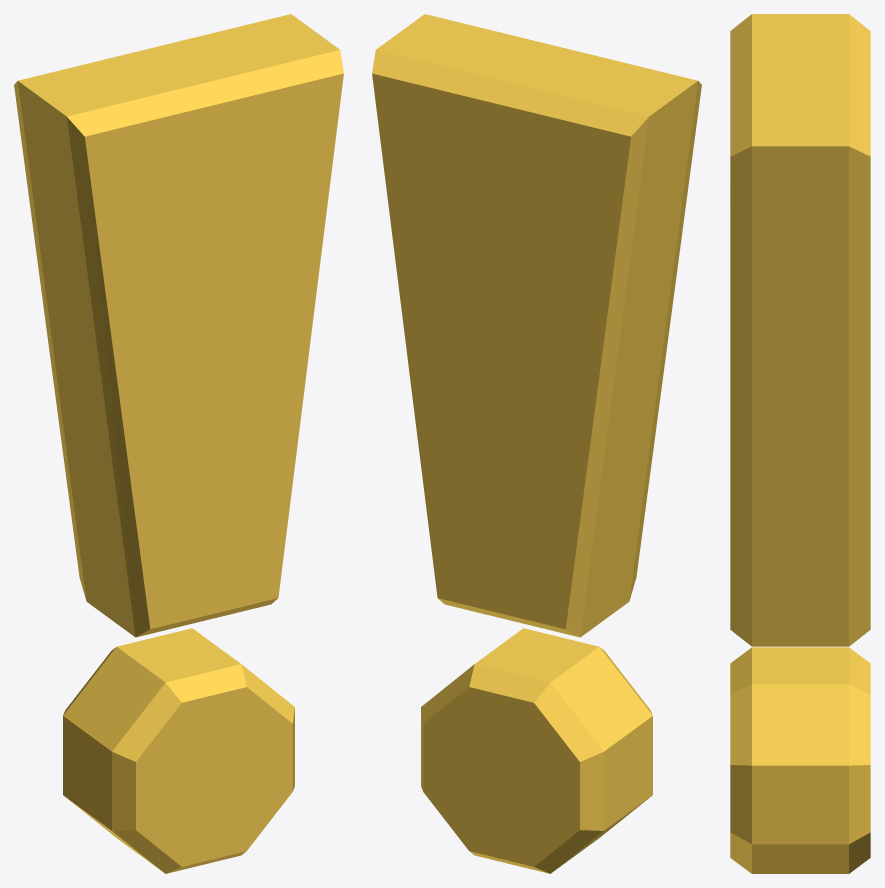
File: TownMissionMarker.fbx
3 views of the same model, side by side, from view 1: azimuth 30°, elevation 25°; view 2: azimuth 150°, elevation 25°; view 3: azimuth 270°, elevation 25° (orthographic).
Visible parts, largest first — view 1: TownMissionMarker; view 2: TownMissionMarker; view 3: TownMissionMarker.
Boxes of the visible parts, x1,y1,x2,y2 form: TownMissionMarker: [14, 14, 343, 873]; TownMissionMarker: [372, 14, 701, 873]; TownMissionMarker: [730, 14, 870, 873].
Size of the model in its own units: 0.29 by 0.792 by 0.13.
